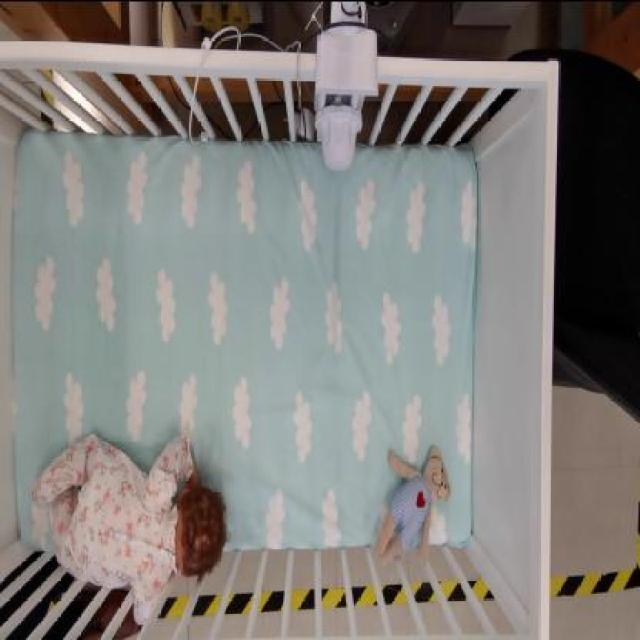baby: (32, 431, 228, 630)
